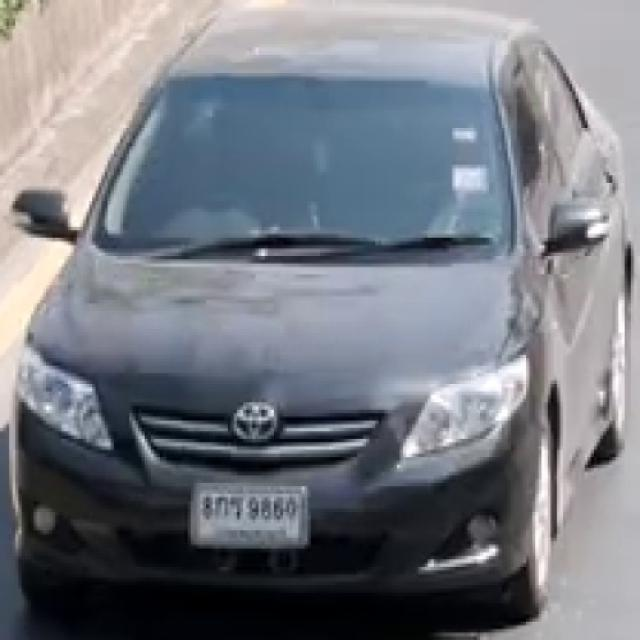plate: (194, 486, 305, 545)
